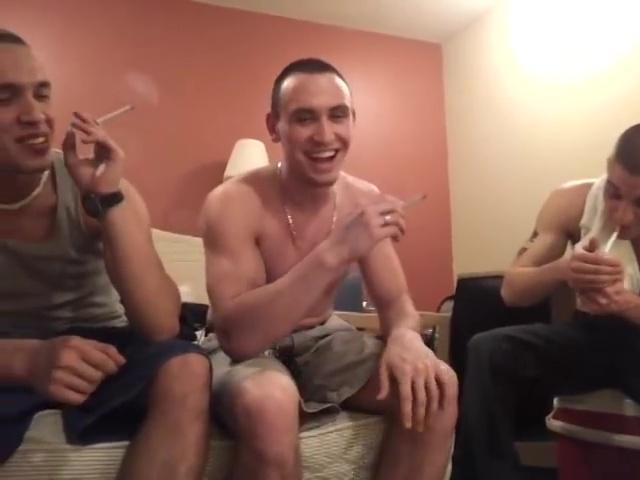cigarette: (91, 101, 140, 126), (396, 193, 437, 212), (604, 222, 627, 254)
